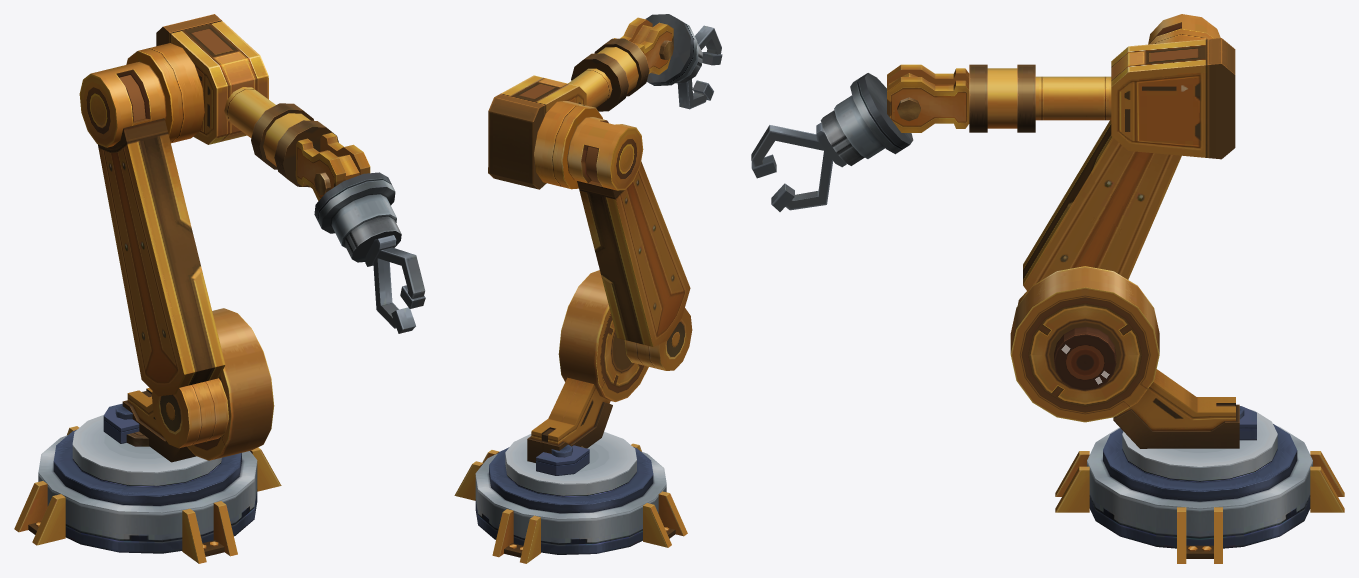
Rendered from my_carrier_01_machine_01.glb.
The picture shows the model from 3 angles, left to right: view 1: azimuth 30°, elevation 25°; view 2: azimuth 150°, elevation 25°; view 3: azimuth 270°, elevation 25°; orthographic projection. The views are drawn at different scales.
Visible parts, largest first — view 1: my_carrier_01_machine_01; view 2: my_carrier_01_machine_01; view 3: my_carrier_01_machine_01.
Boxes of the visible parts, x1,y1,x2,y2 form: my_carrier_01_machine_01: (14,14,425,563); my_carrier_01_machine_01: (454,14,722,563); my_carrier_01_machine_01: (751,14,1344,563).
Bounding box in the file's own units: 0.0113 × 0.0206 × 0.0232.
Materials: 1 (1 with a texture image).
